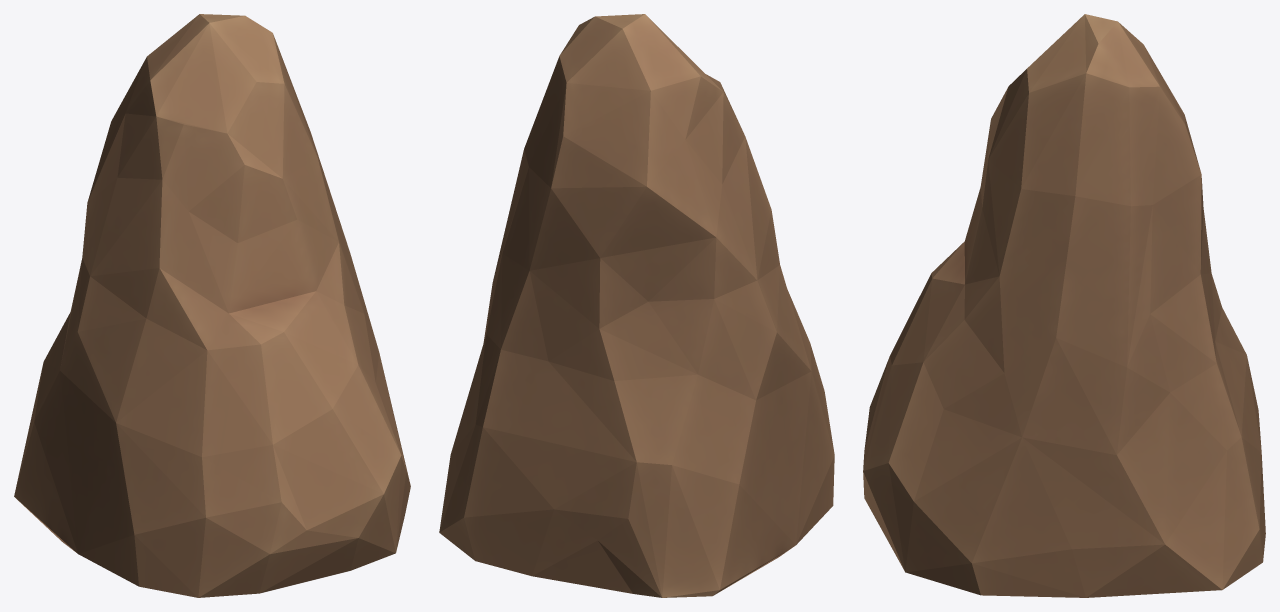
File: Rock_21.fbx
3 renders of one model, left to right at view 1: azimuth 30°, elevation 25°; view 2: azimuth 150°, elevation 25°; view 3: azimuth 270°, elevation 25°, orthographic. The views are drawn at different scales.
Visible parts, largest first — view 1: Rock_21; view 2: Rock_21; view 3: Rock_21.
Boxes of the visible parts, <box> form: Rock_21: <box>14,14,410,597</box>; Rock_21: <box>439,14,834,597</box>; Rock_21: <box>863,14,1265,597</box>.
Bounding box in the file's own units: 29.67 × 47.9 × 34.42.
